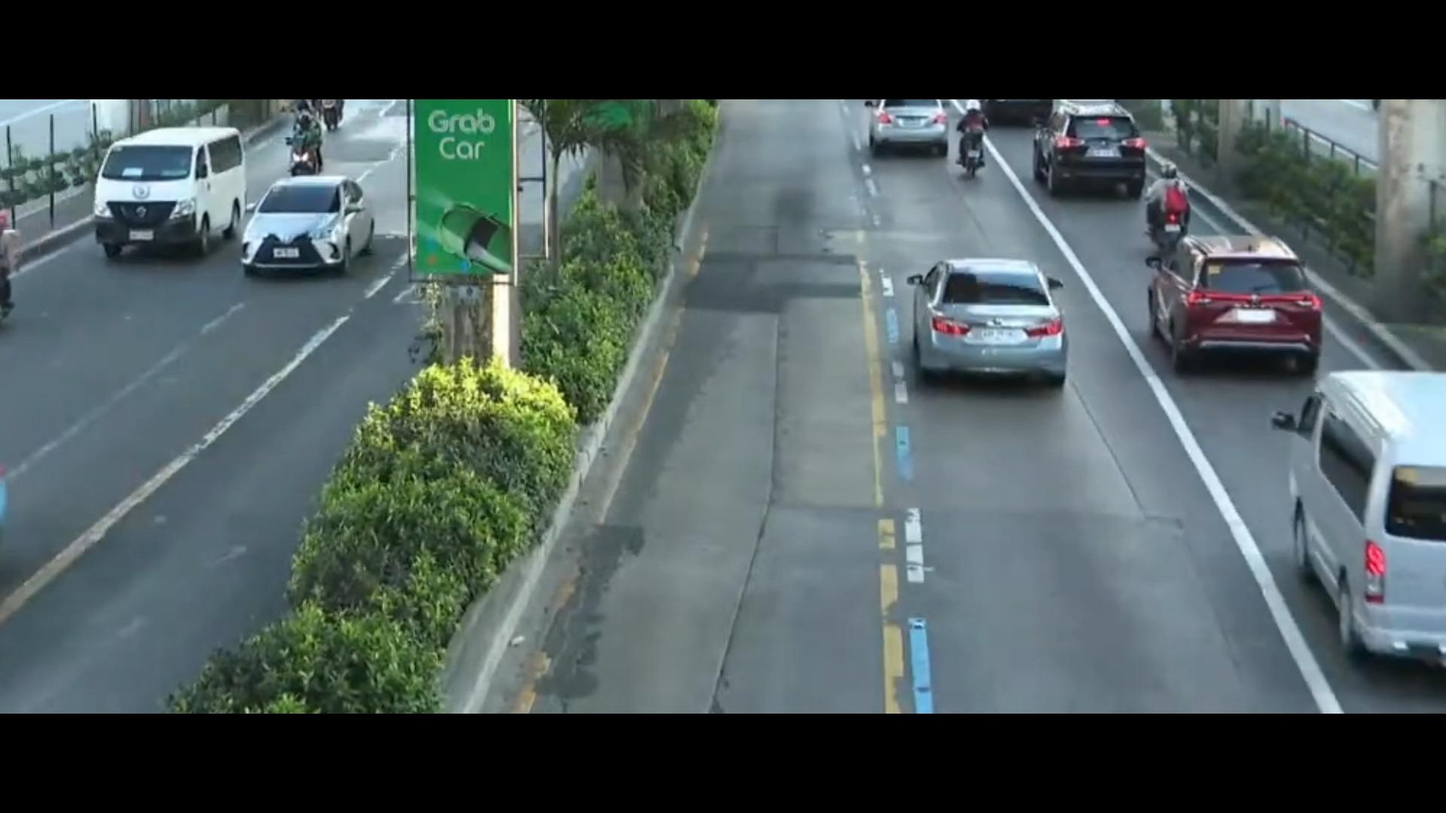Motorcycle: (1136, 160, 1202, 262), (283, 111, 337, 183), (949, 94, 991, 176)
SUV: (1143, 219, 1331, 381), (1030, 100, 1151, 192)
Sedan: (880, 226, 1099, 430), (227, 160, 405, 287)
Van: (1258, 337, 1446, 680), (80, 104, 262, 260)
